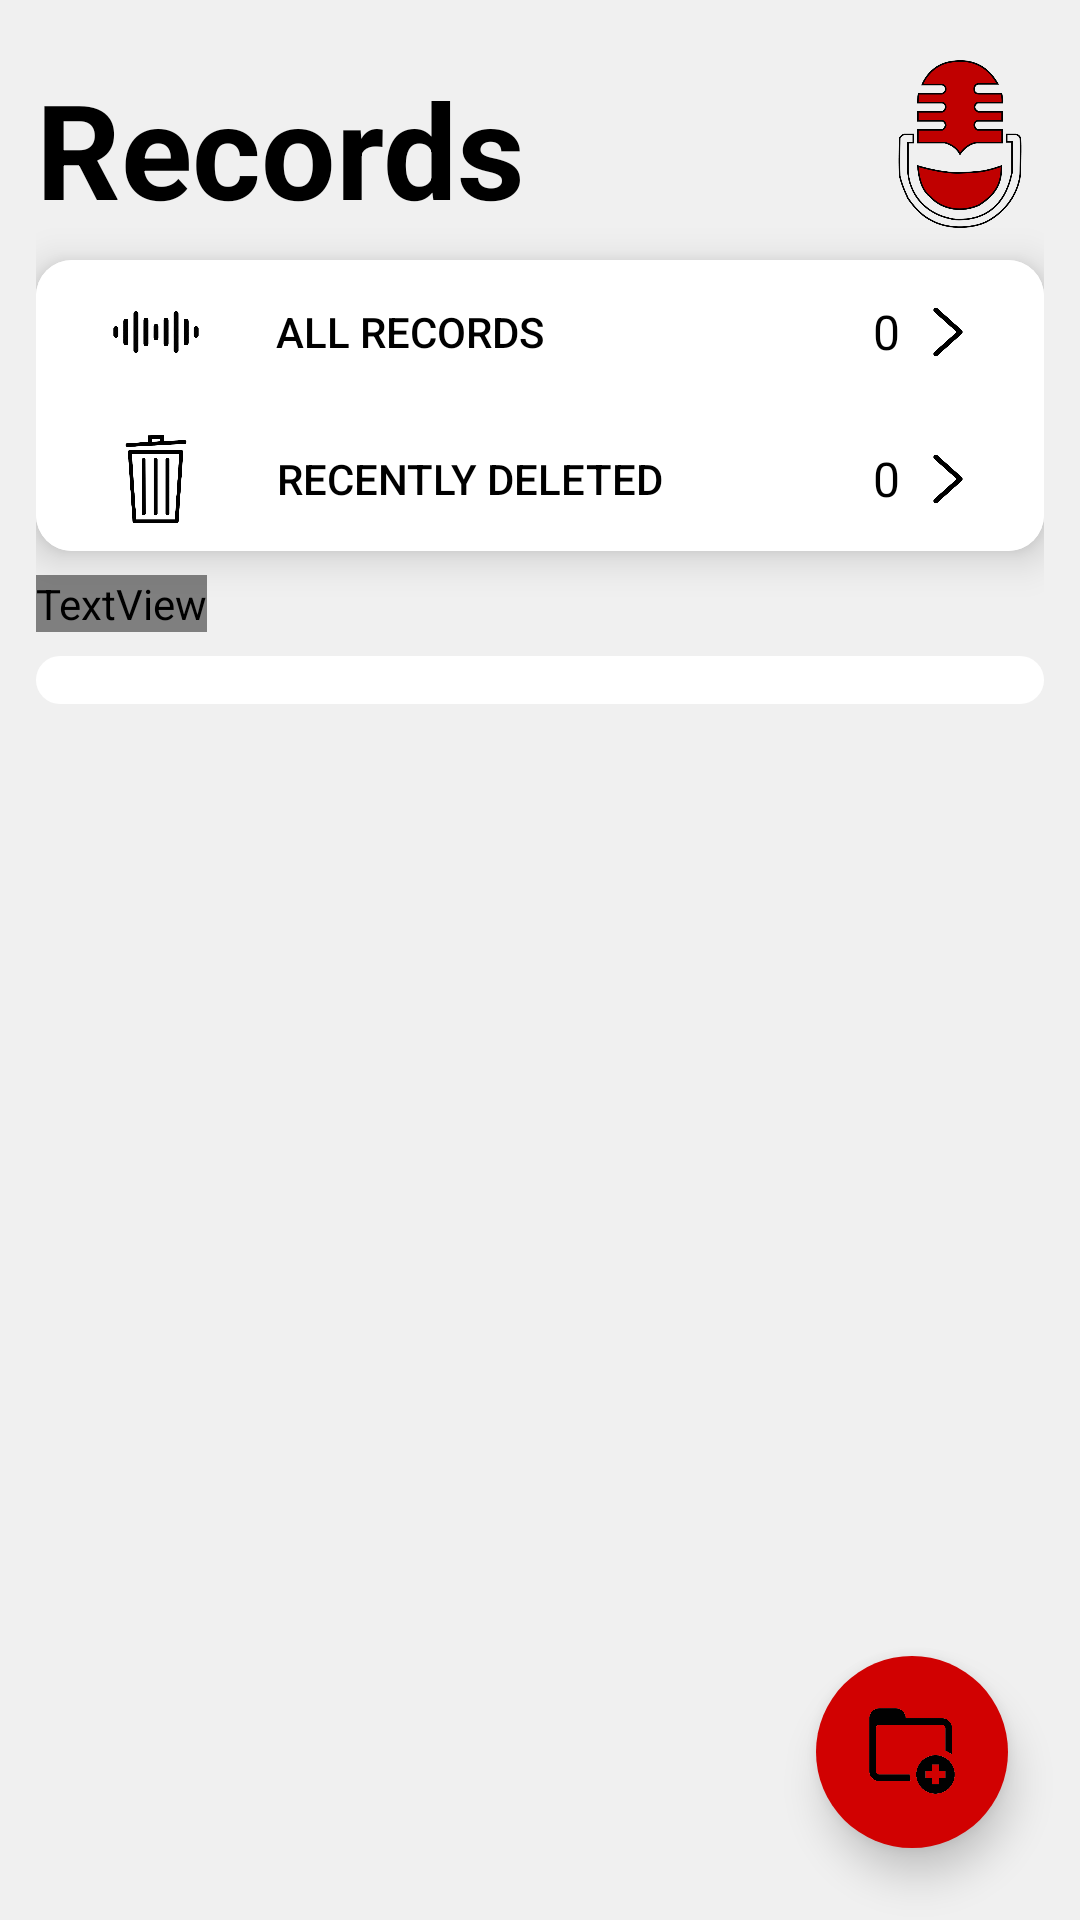

Icon bounding boxes for this 1080×1920 phone screenshot, format (x1, y1, x2, y2):
add folder: (869, 1708, 955, 1794)
sound wave: (113, 311, 199, 353)
trash bin: (125, 435, 187, 523)
